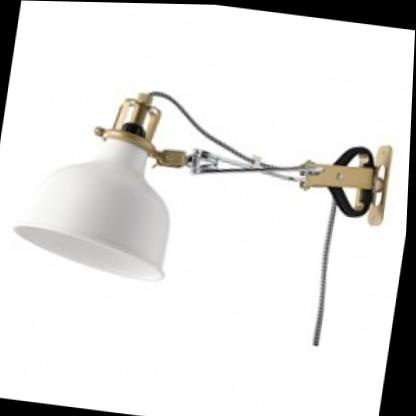Lamp: (0, 20, 412, 381)
